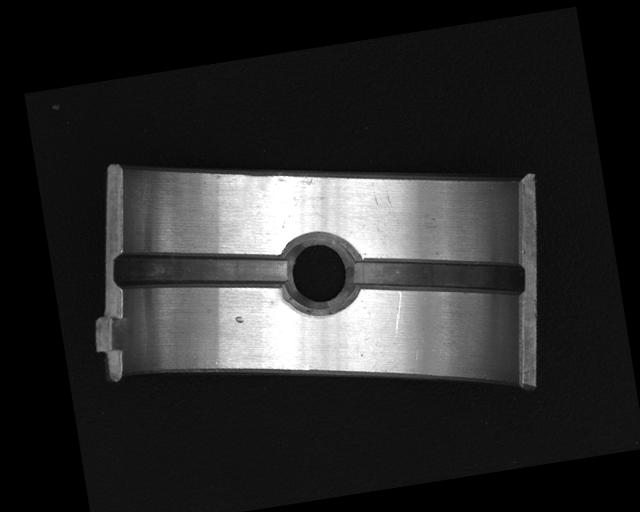bruise: (234, 314, 245, 324)
gap: (350, 234, 526, 319), (111, 229, 290, 309)
hole: (277, 226, 364, 321)
nick: (387, 290, 408, 335)
